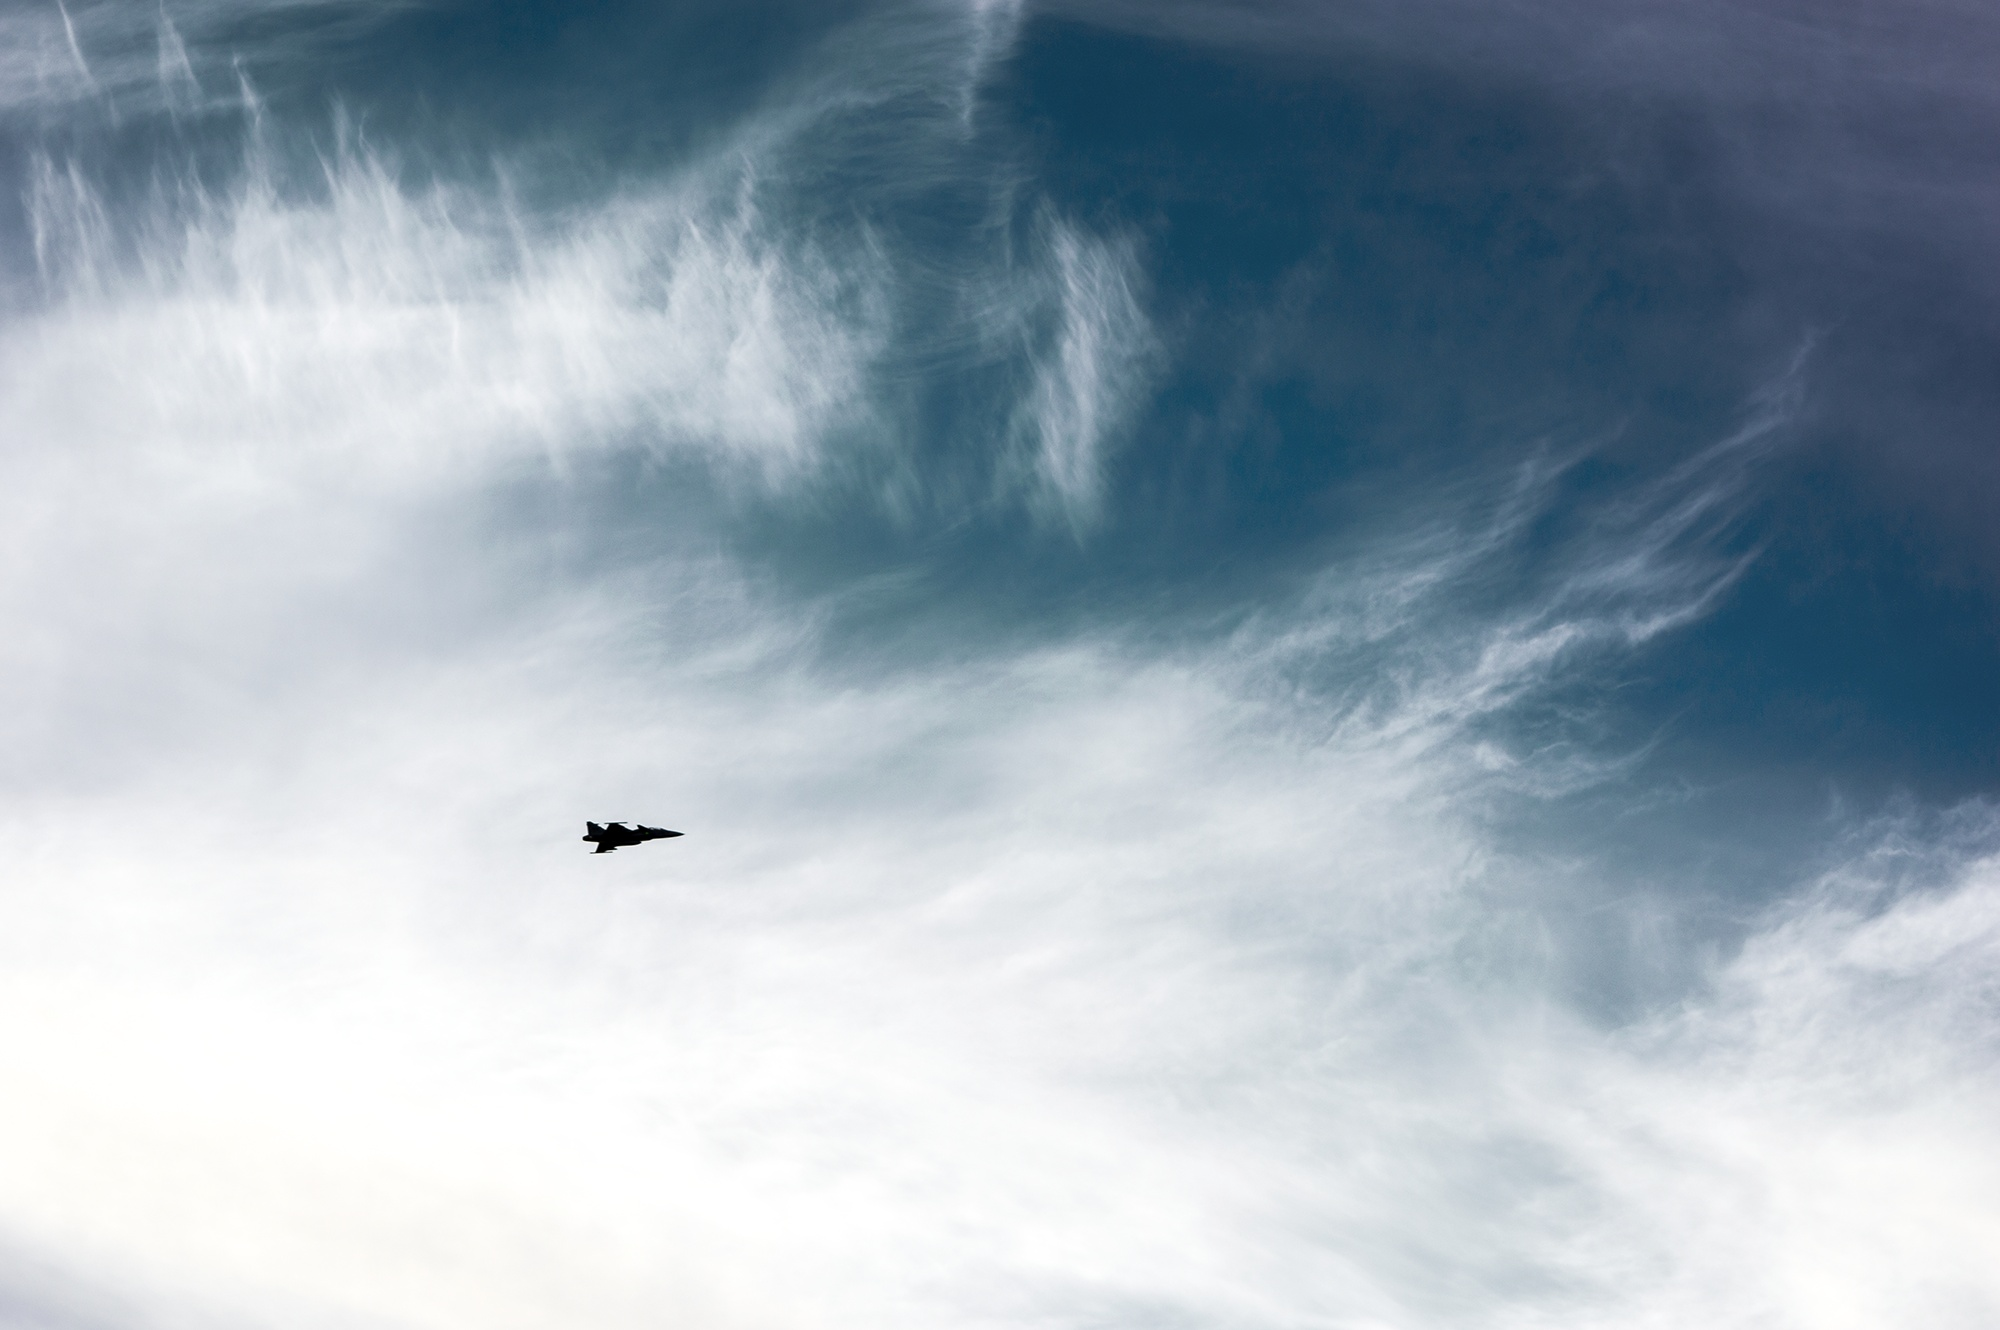JAS39: (582, 819, 691, 855)
